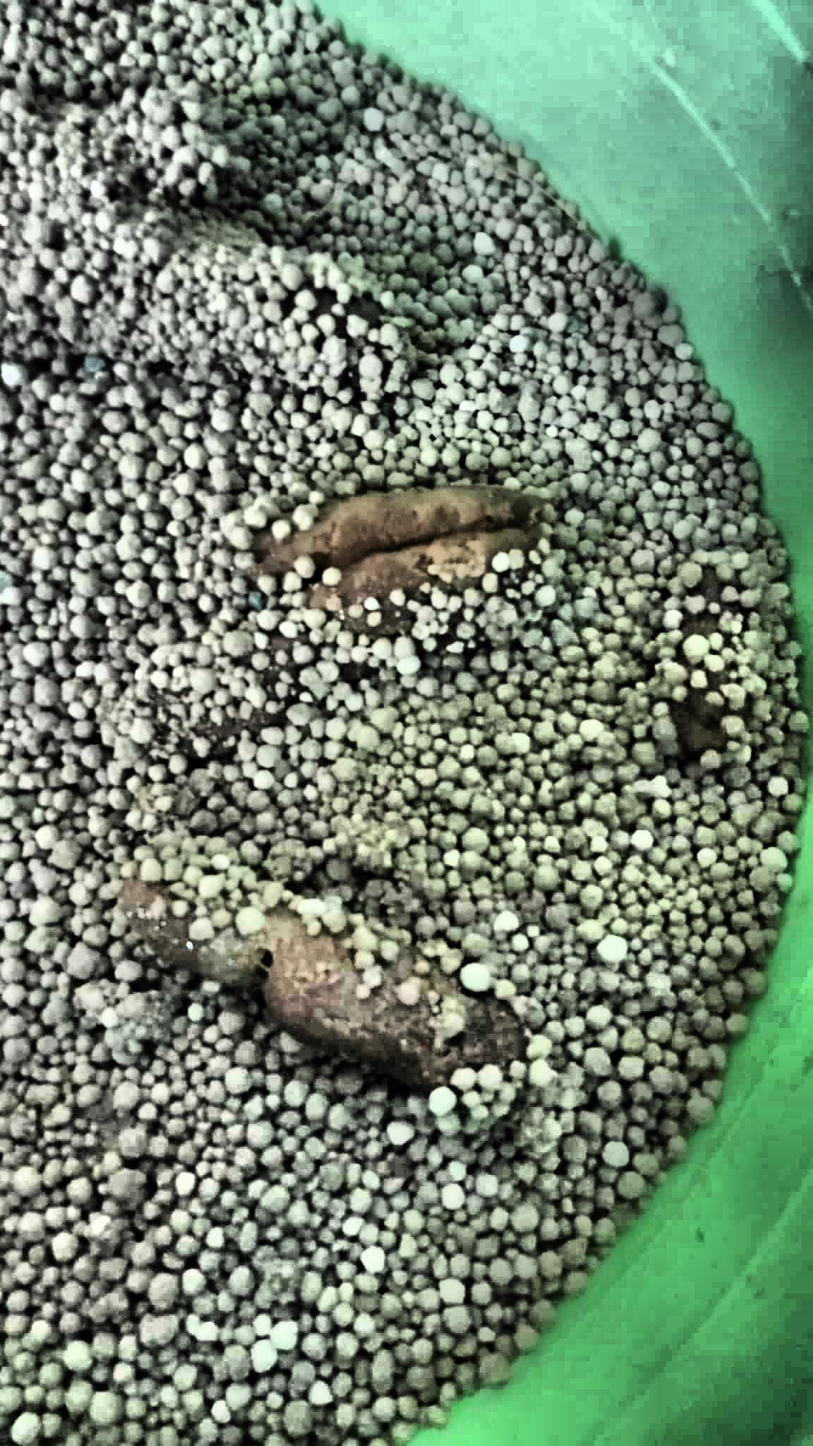poop: (105, 485, 547, 759), (118, 856, 529, 1094), (0, 225, 411, 409), (652, 561, 744, 760)
